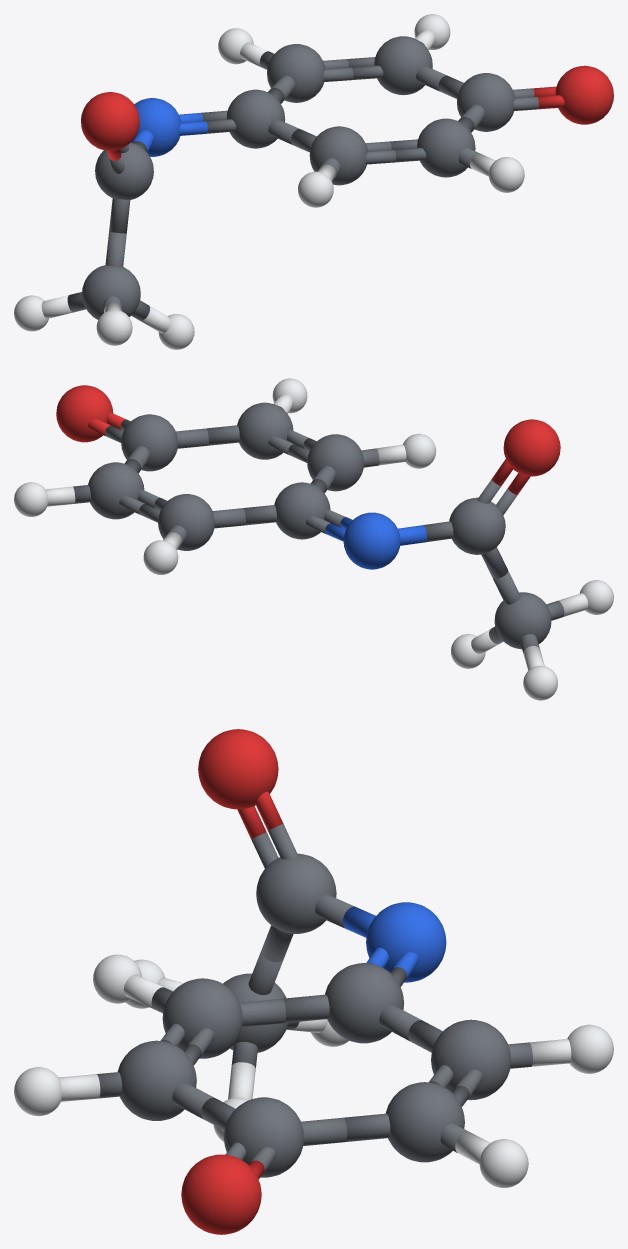
The model's file is napqi.glb.
3 renders of one model, top to bottom at view 1: azimuth 30°, elevation 25°; view 2: azimuth 150°, elevation 25°; view 3: azimuth 270°, elevation 25°, orthographic. The views are drawn at different scales.
Visible parts, largest first — view 1: napqi; view 2: napqi; view 3: napqi.
Part boxes in pixels (<box>): napqi: <box>14,14,613,349</box>; napqi: <box>14,378,613,700</box>; napqi: <box>14,729,613,1234</box>.
Bounding box in the file's own units: 7.79 × 3.63 × 5.37.
